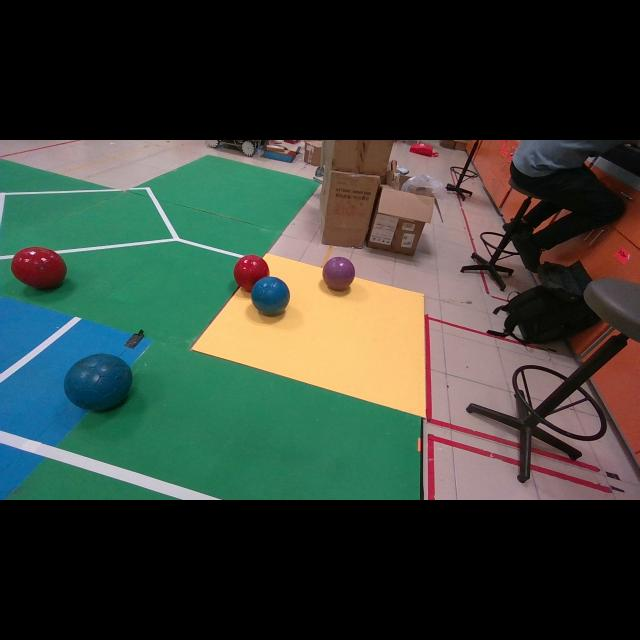B: (64, 354, 132, 410), (251, 276, 290, 316)
P: (322, 258, 355, 291)
R: (11, 246, 66, 289), (234, 255, 269, 292)
